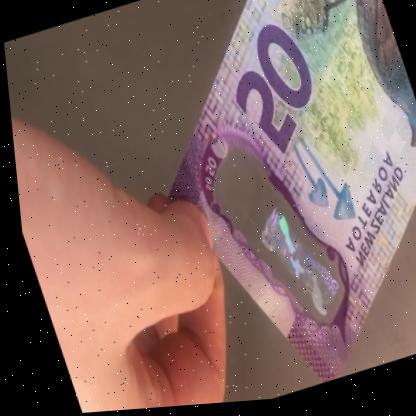50B: (223, 145, 344, 338)
